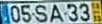0: (9, 4, 21, 23)
3: (78, 2, 91, 22), (66, 3, 79, 22)
5: (19, 4, 32, 23)
A: (49, 3, 65, 22)
S: (34, 3, 48, 22)
